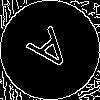A: (25, 25, 80, 82)
